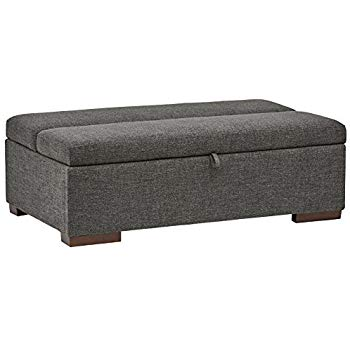chairs: (3, 100, 348, 246)
